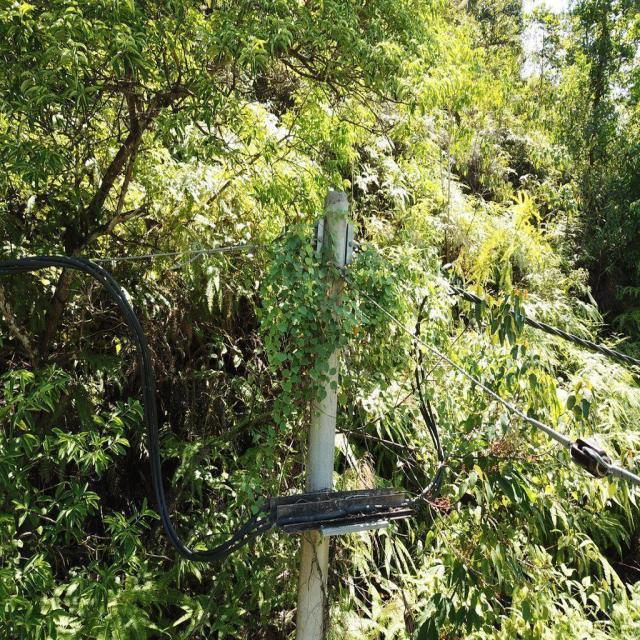critical vegetation: (254, 183, 430, 410)
